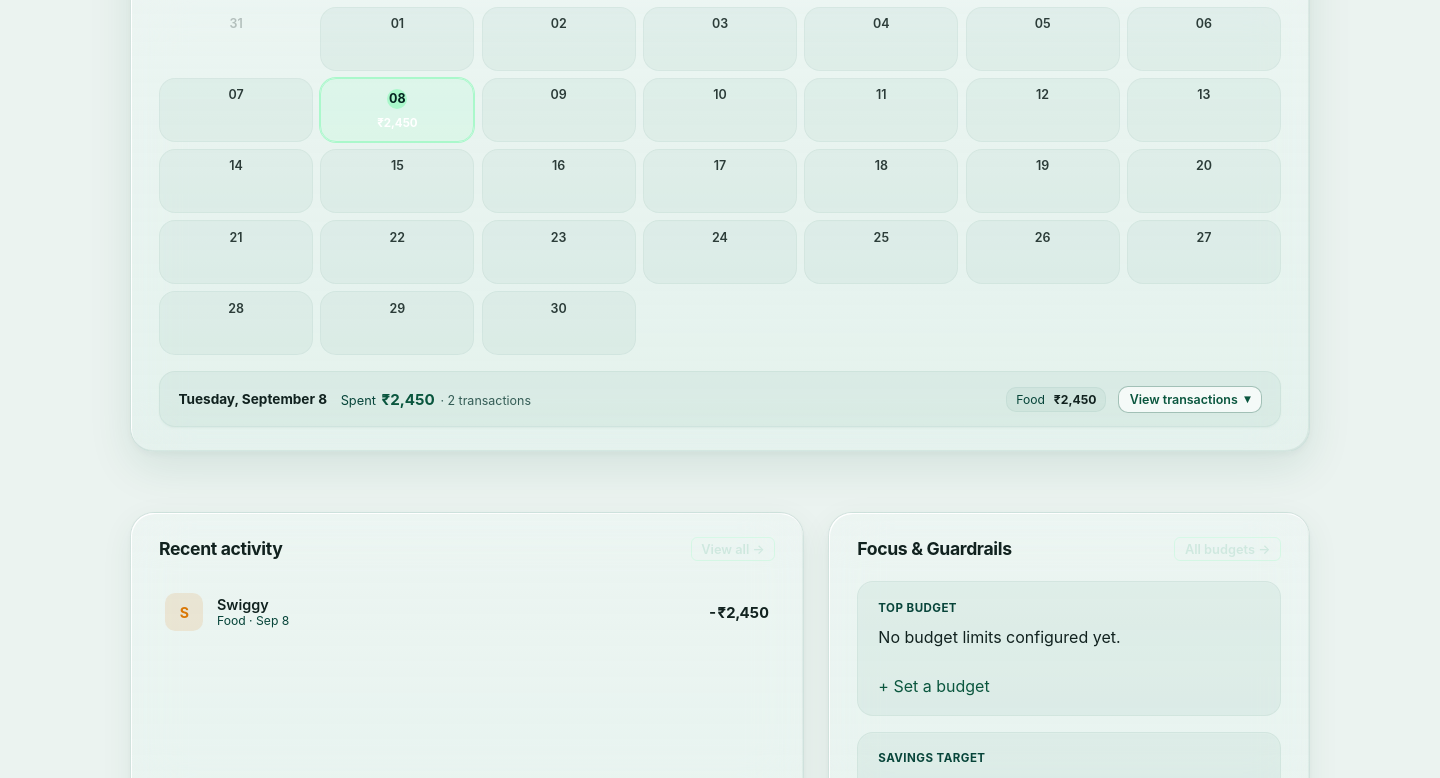
Scenario: DashboardComponent › Spending Calendar - Expandable Daily Transactions › collapses card when clicking toggle button again
(page scrolled)
What coordinates should you click on to do the following:
click the button with id "btn-toggle-daily-tx"
I would click on:
 (1190, 399)
Its box is [1118, 386, 1262, 412].
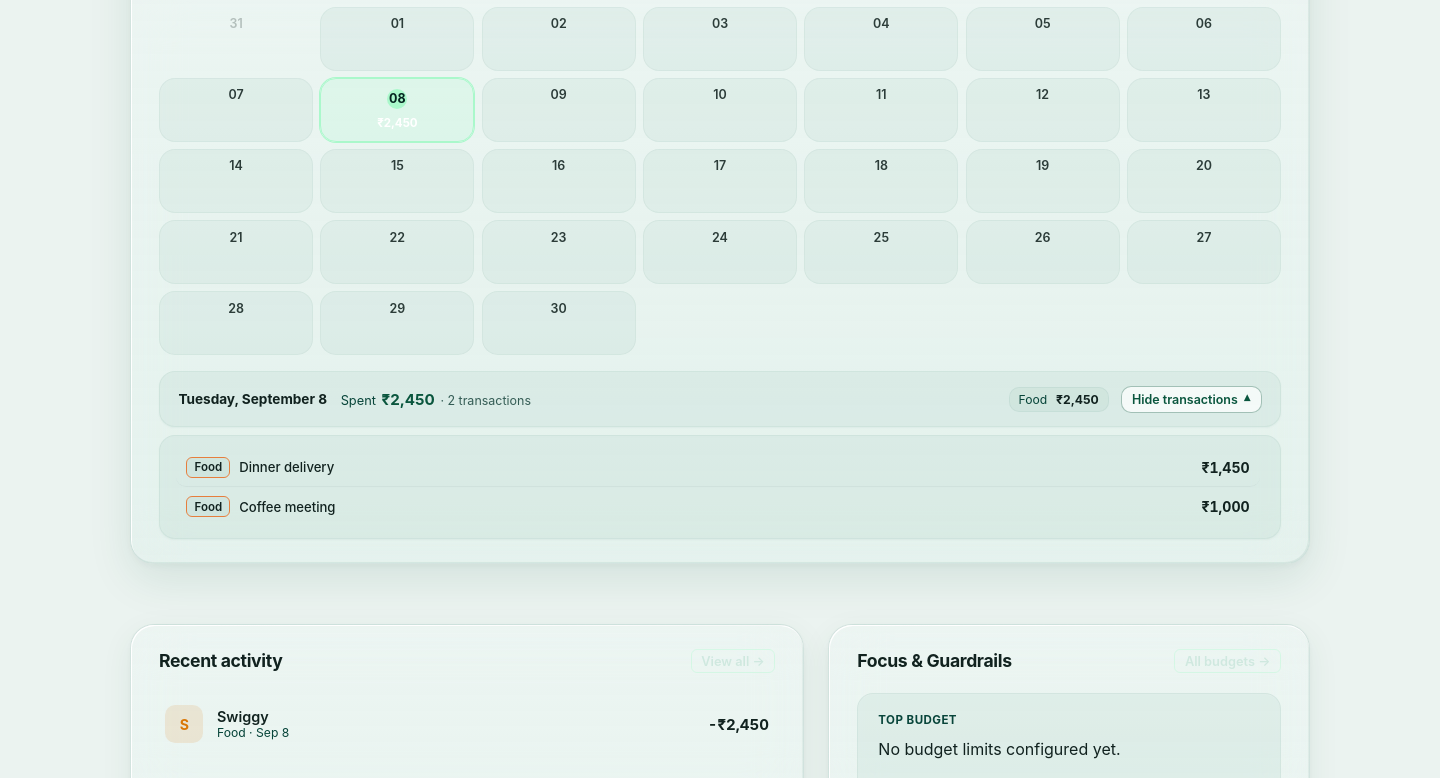
What coordinates should you click on to do the following:
click the button with id "btn-toggle-daily-tx"
I would click on:
 (1191, 399)
Its box is [1120, 386, 1262, 412].
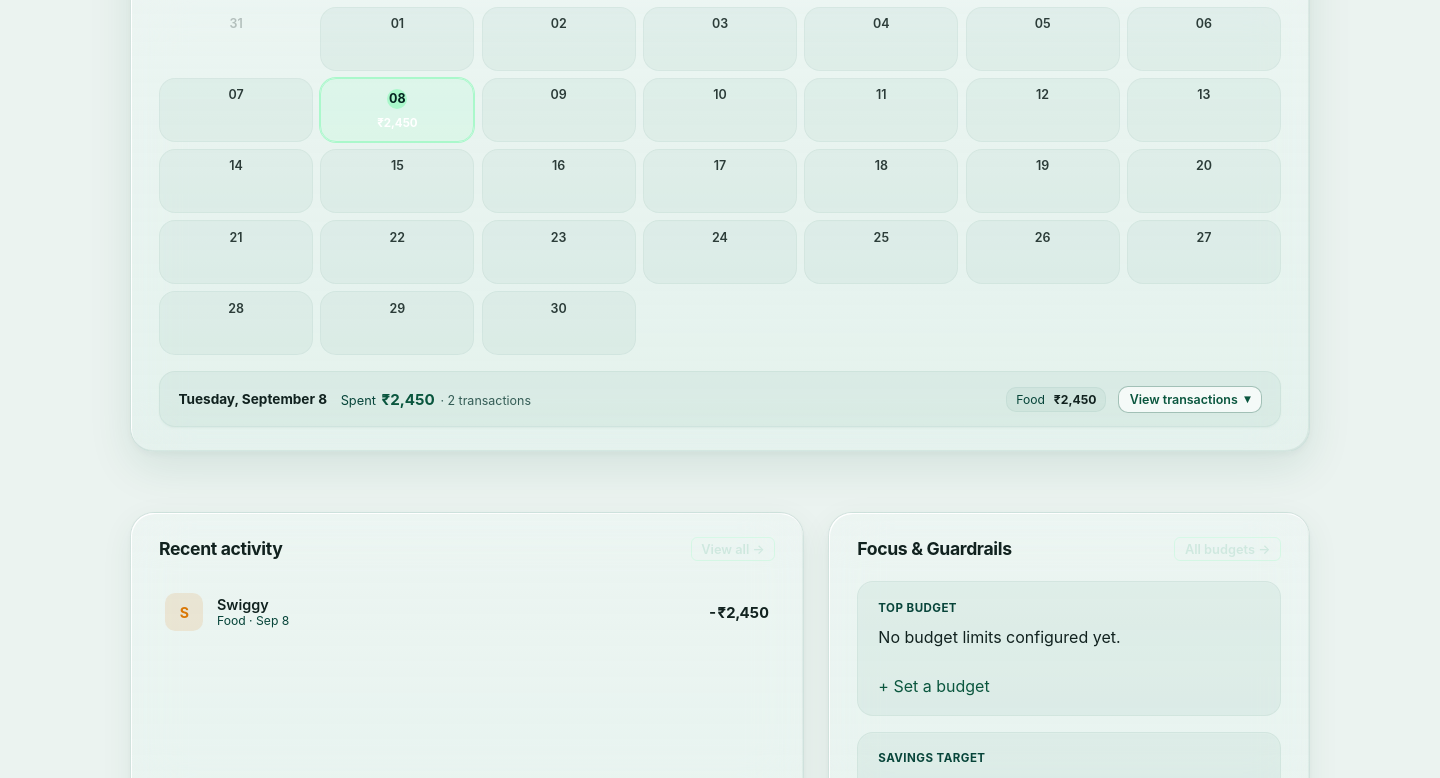
Expected: the button with id "btn-toggle-daily-tx" is collapsed, [1118, 386, 1262, 412]
Expected: the button with id "btn-toggle-daily-tx" shows "View transactions", [1118, 386, 1262, 412]
Expected: the element with id "daily-tx-card" is gone
